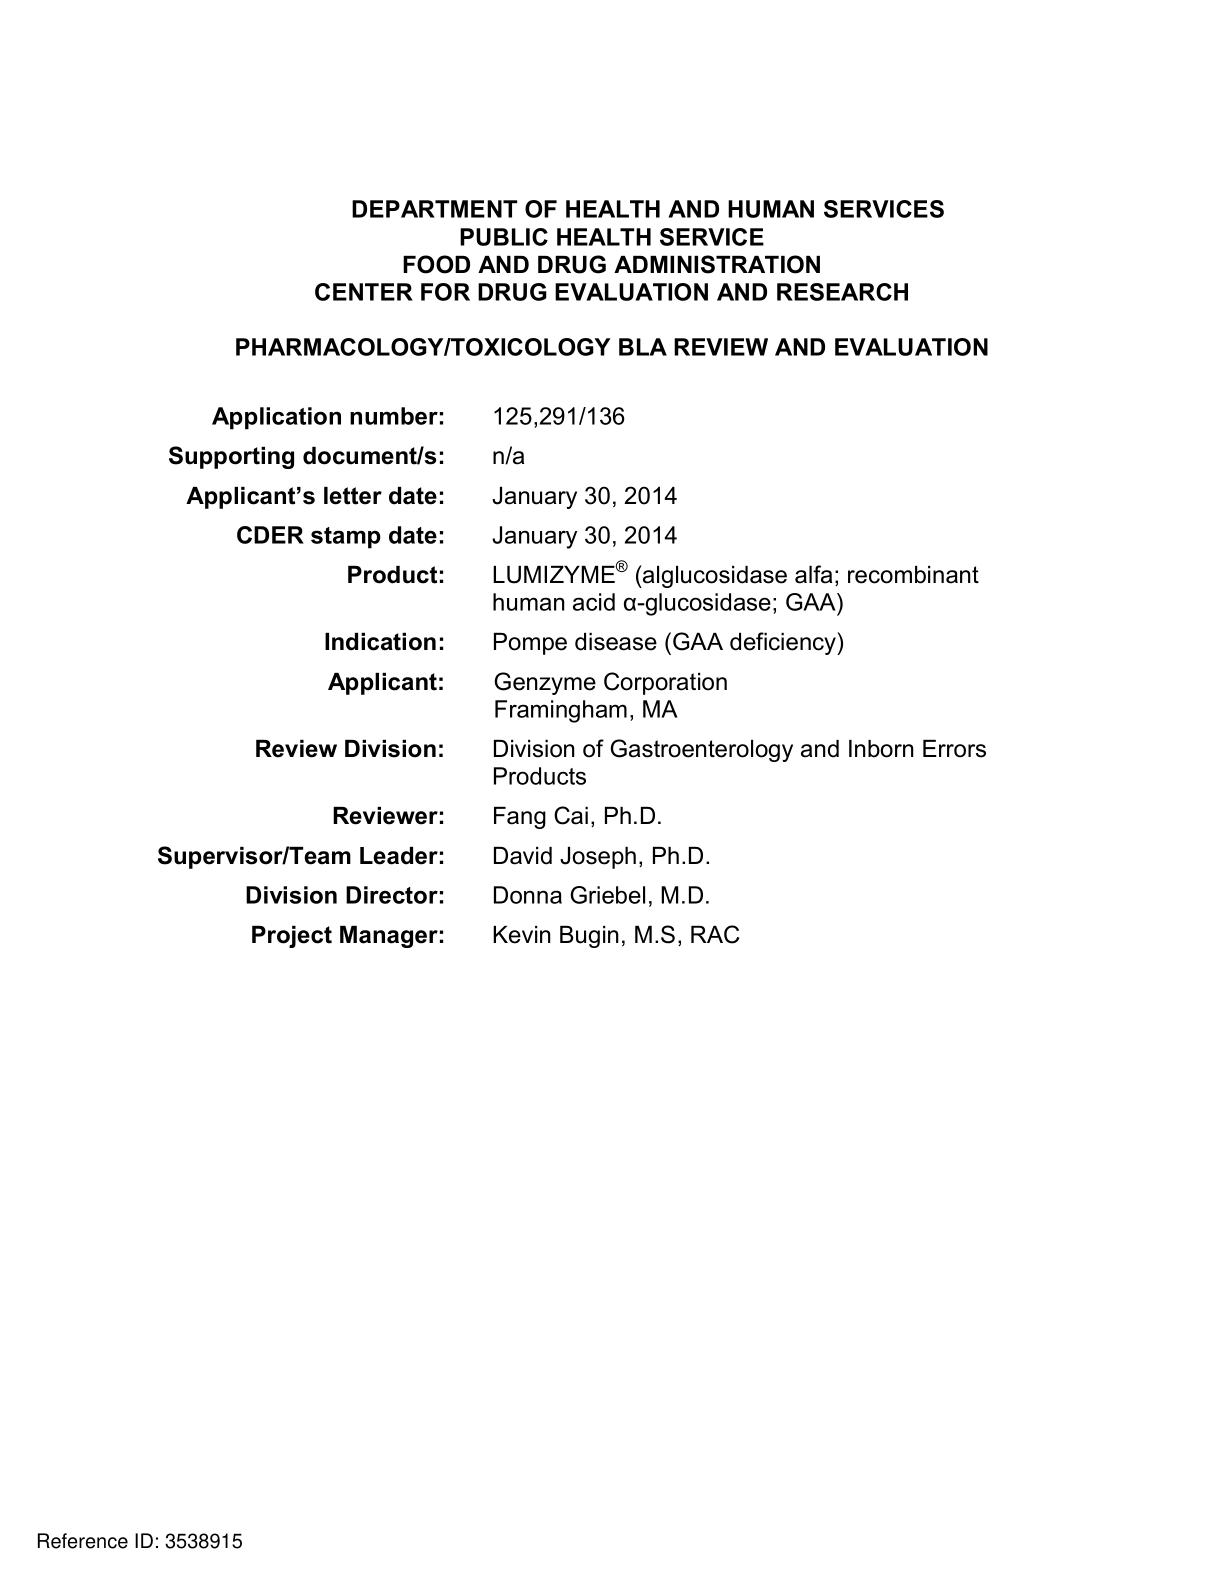nolines: (156, 402, 993, 948)
